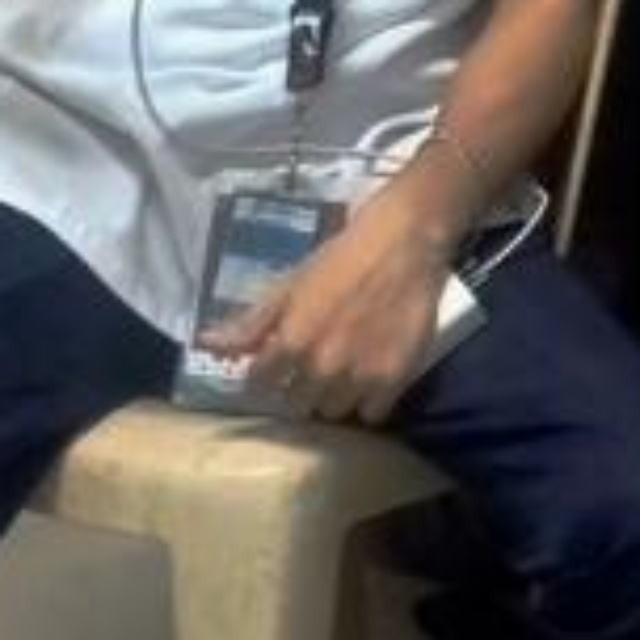thumbs_up: (187, 209, 453, 431)
